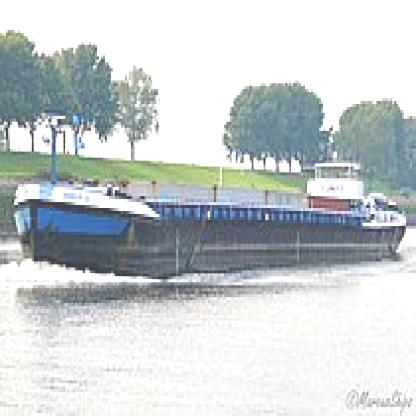Tanker: (20, 154, 404, 262)
